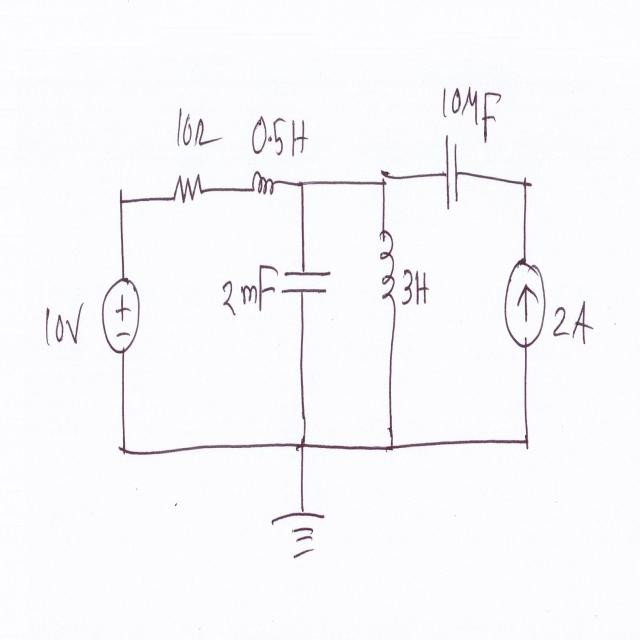capacitor: (442, 120, 462, 221), (280, 266, 333, 304)
current_source: (499, 253, 548, 351)
ground: (266, 504, 332, 567)
inductor: (376, 226, 396, 320), (249, 165, 279, 205)
resistor: (168, 169, 207, 212)
voltage_source: (100, 270, 140, 364)
